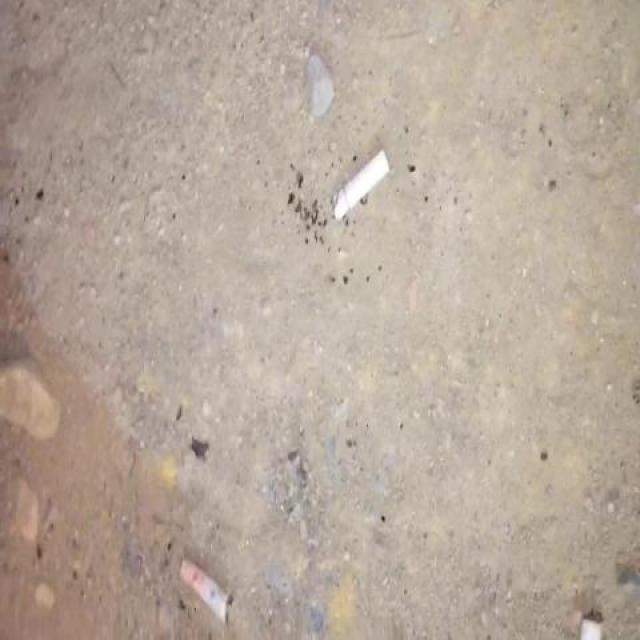non-organic waste: (328, 143, 396, 230), (175, 548, 252, 624)
